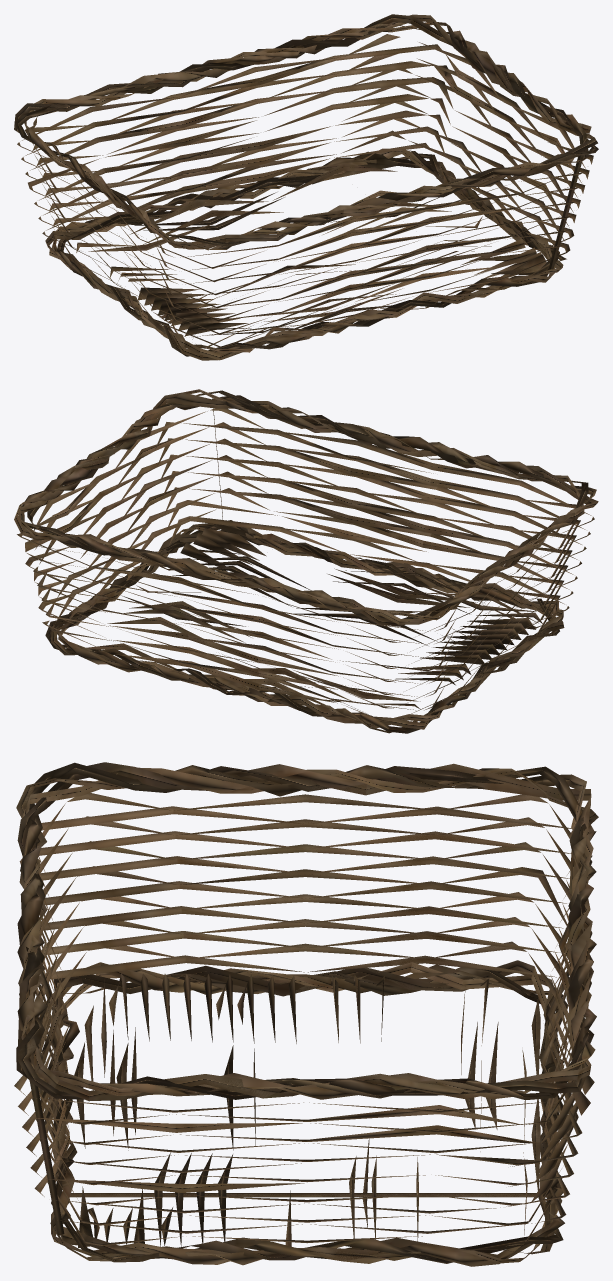
Rendered from basket.glb.
3 renders of one model, top to bottom at view 1: azimuth 30°, elevation 25°; view 2: azimuth 150°, elevation 25°; view 3: azimuth 270°, elevation 25°, orthographic. The views are drawn at different scales.
Bounding box in the file's own units: 0.383 × 0.1174 × 0.2939.
Materials: 1 (1 with a texture image).
